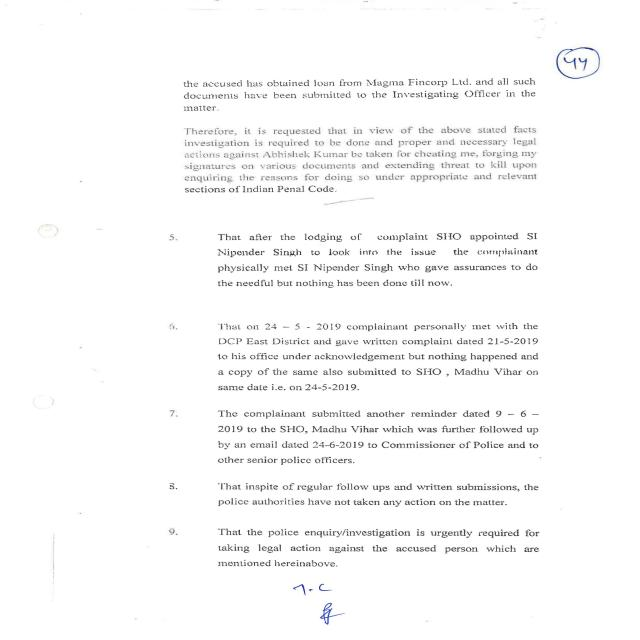page-number: (539, 41, 639, 155)
